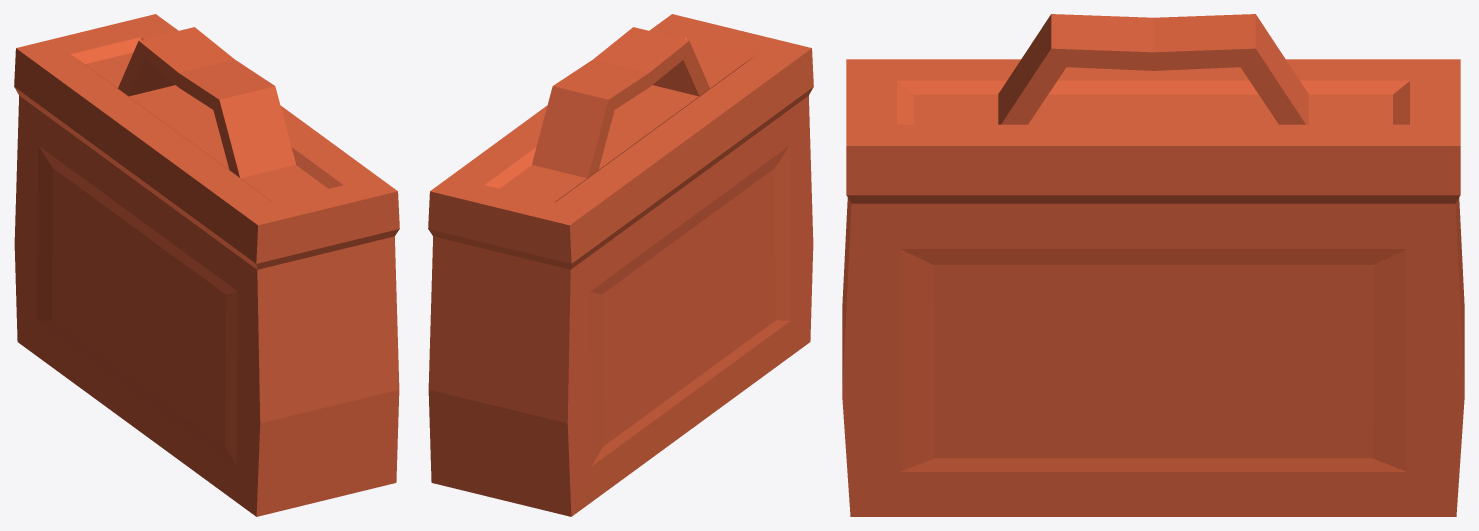
Rendered from ammo-box-cal30.fbx.
3 renders of one model, left to right at view 1: azimuth 30°, elevation 25°; view 2: azimuth 150°, elevation 25°; view 3: azimuth 270°, elevation 25°, orthographic. The views are drawn at different scales.
Visible parts, largest first — view 1: ammo-box-cal30; view 2: ammo-box-cal30; view 3: ammo-box-cal30.
Part boxes in pixels (x1,y1,x2,y2): ammo-box-cal30: (14,14,399,516); ammo-box-cal30: (428,14,813,516); ammo-box-cal30: (842,14,1464,516).
Size of the model in its own units: 0.1026 by 0.2385 by 0.3042.
